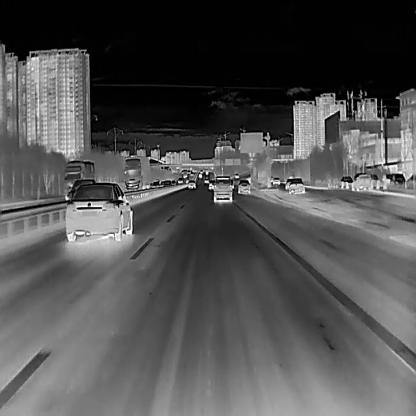car: (64, 181, 132, 240), (212, 175, 231, 202), (351, 173, 378, 190), (381, 172, 405, 188), (288, 177, 304, 193), (337, 174, 352, 188), (237, 178, 250, 192), (187, 180, 196, 188), (272, 176, 280, 184)
truck: (64, 159, 94, 200), (123, 155, 149, 189)
